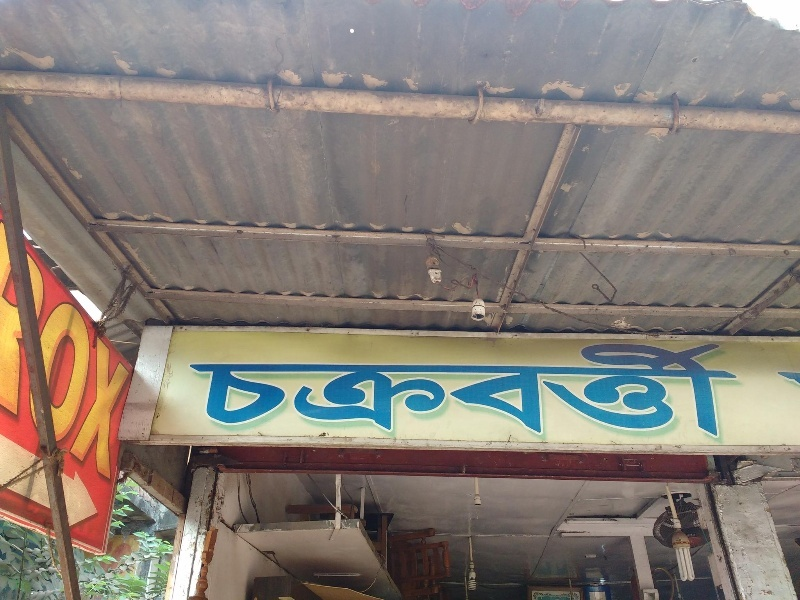text: (17, 222, 32, 519), (33, 222, 48, 519), (49, 222, 64, 519), (65, 222, 80, 519), (81, 222, 96, 519), (97, 222, 112, 519), (113, 222, 128, 519), (129, 222, 144, 519), (3, 222, 16, 519), (193, 342, 208, 438), (209, 342, 224, 438), (225, 342, 240, 438), (241, 342, 256, 438), (257, 342, 272, 438), (273, 342, 288, 438), (289, 342, 304, 438), (305, 342, 320, 438), (321, 342, 336, 438), (337, 342, 352, 438), (353, 342, 368, 438), (369, 342, 384, 438), (385, 342, 400, 438), (401, 342, 416, 438), (417, 342, 432, 438), (433, 342, 448, 438), (449, 342, 464, 438), (465, 342, 480, 438), (481, 342, 496, 438), (497, 342, 512, 438), (513, 342, 528, 438), (529, 342, 544, 438), (545, 342, 560, 438), (561, 342, 576, 438), (577, 342, 592, 438), (593, 342, 608, 438), (609, 342, 624, 438), (625, 342, 640, 438), (641, 342, 656, 438), (657, 342, 672, 438), (673, 342, 688, 438), (689, 342, 704, 438), (705, 342, 720, 438), (721, 342, 736, 438), (145, 222, 149, 519), (737, 342, 747, 438)
